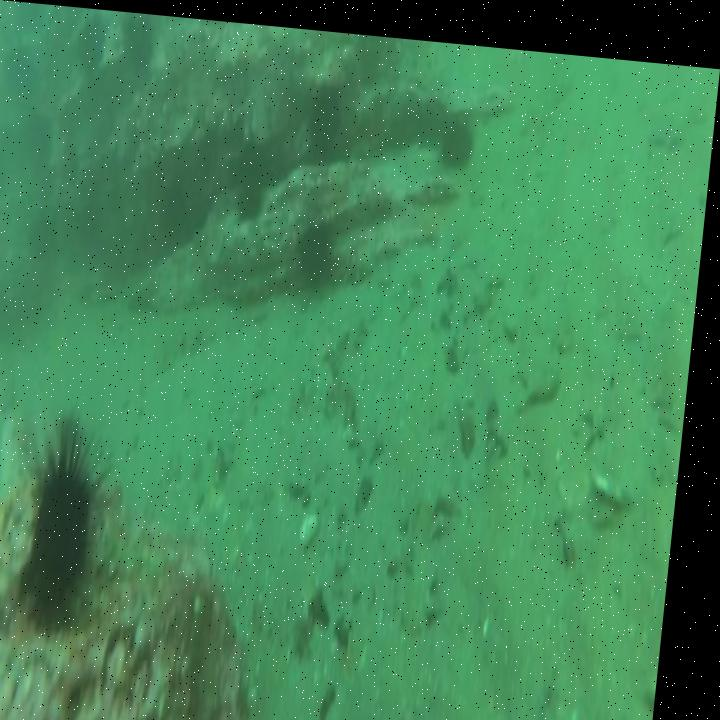echinus: (28, 443, 115, 637), (295, 211, 345, 284), (305, 77, 348, 149), (115, 13, 162, 75), (233, 149, 272, 219), (71, 13, 113, 73), (441, 104, 478, 163)
